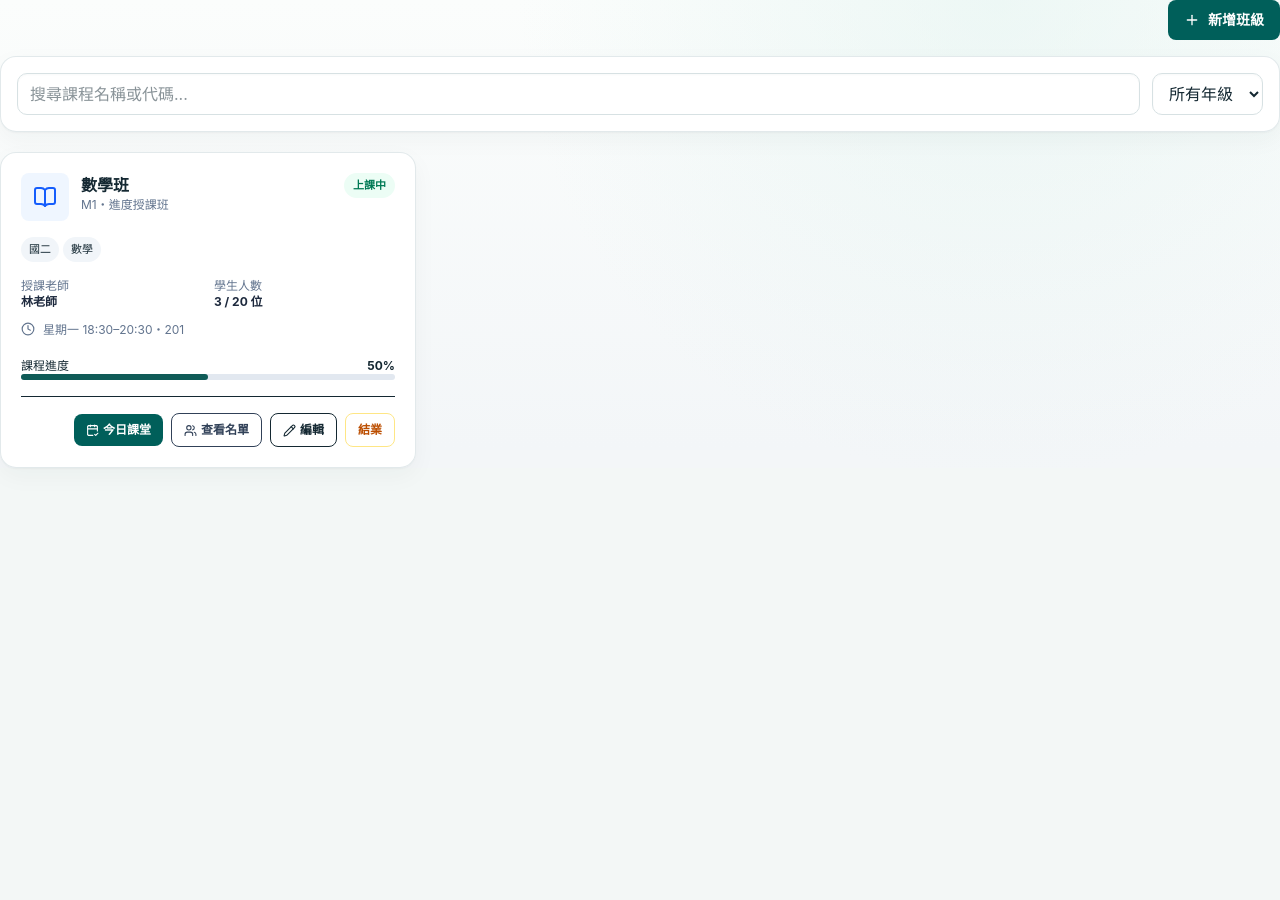
it: class overview › opens a read-only roster dialog with links to student profiles
Step 1. Click the button with aria-label "查看數學班學生名單" → point(216, 430), box [171,412,262,446]
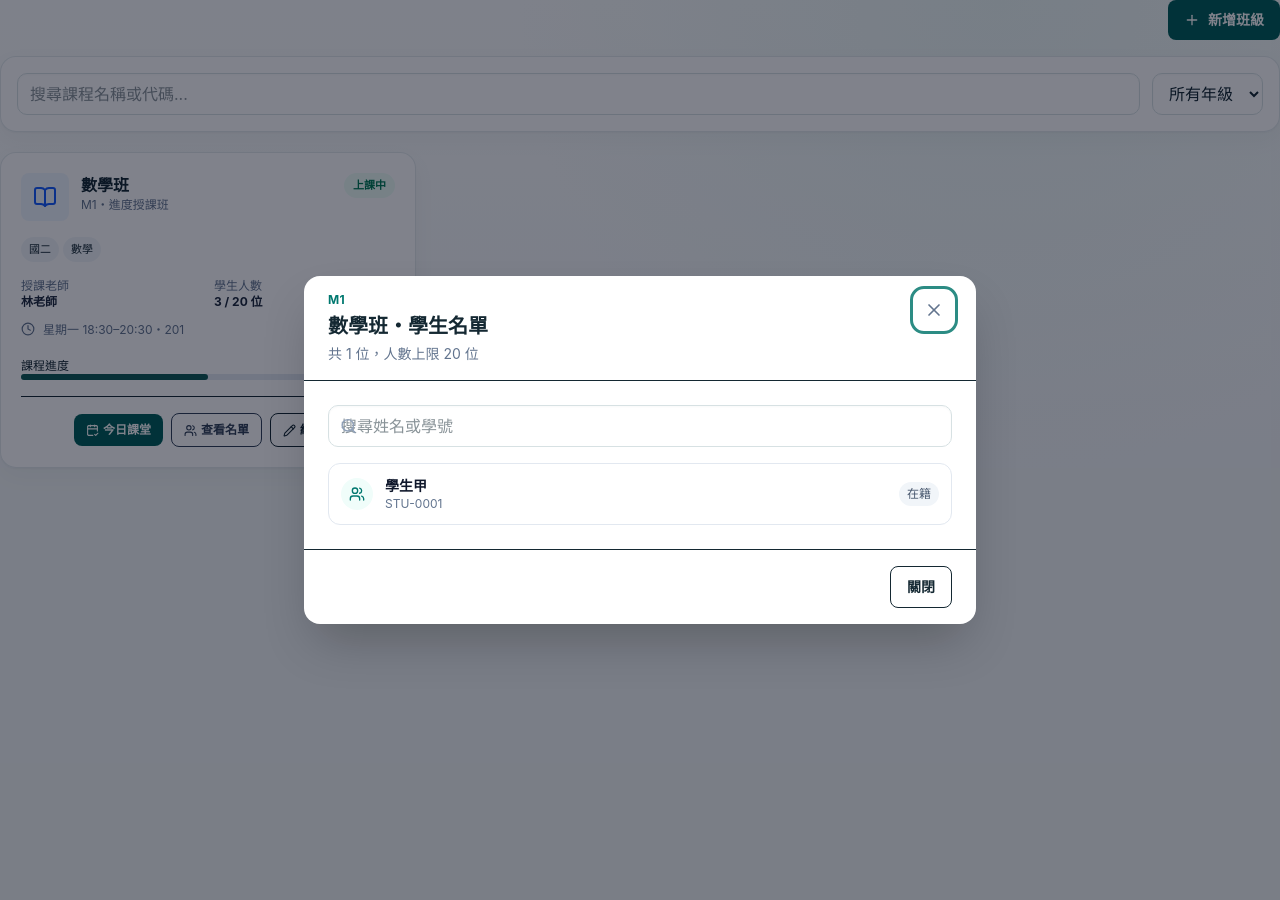
Check: the dialog "數學班・學生名單" is shown, box [304,276,976,624]
